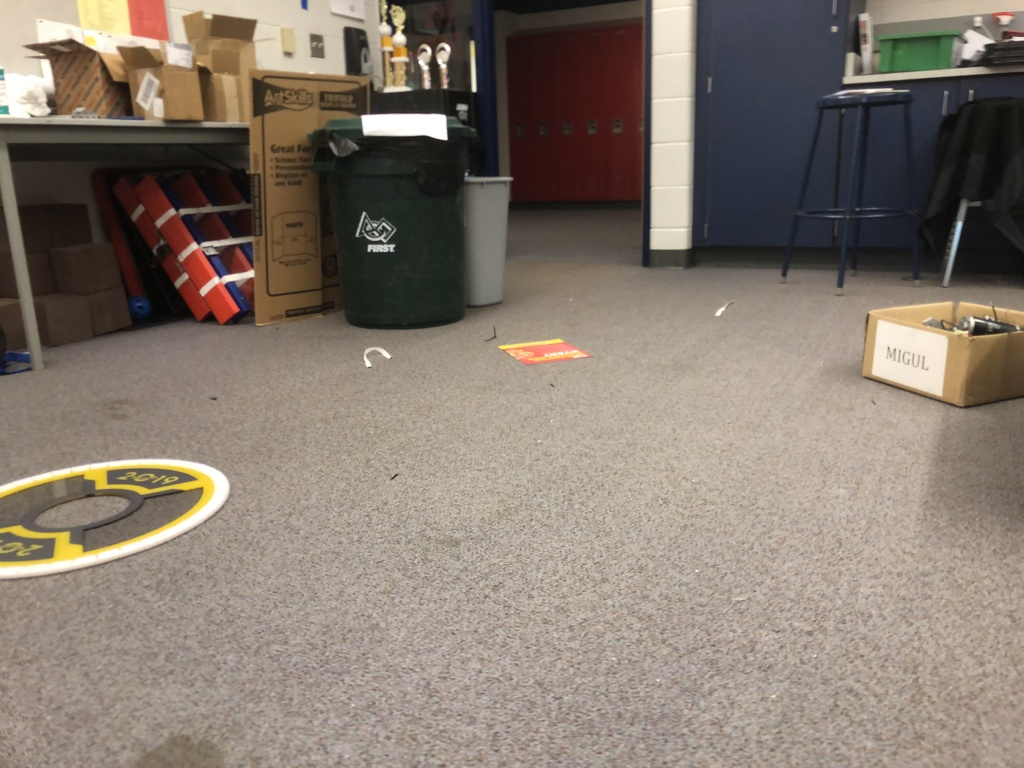hatch_panel: (1, 438, 246, 593)
